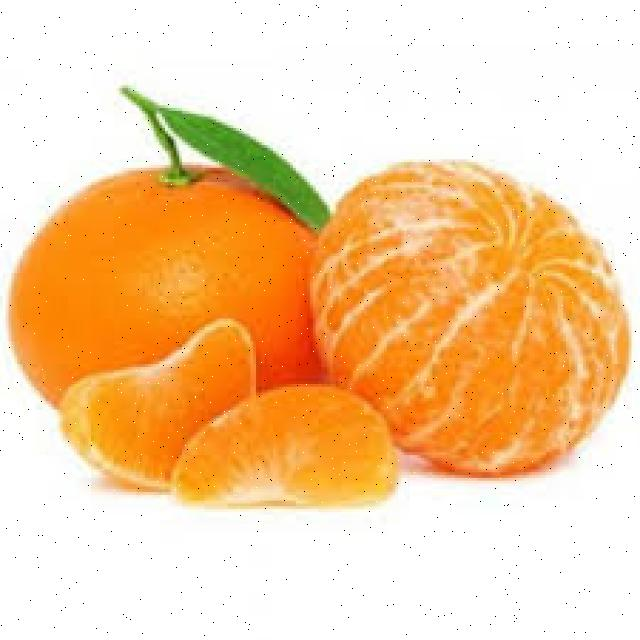Orange: (309, 157, 631, 477), (7, 163, 320, 408), (58, 317, 258, 492), (169, 382, 398, 509)
